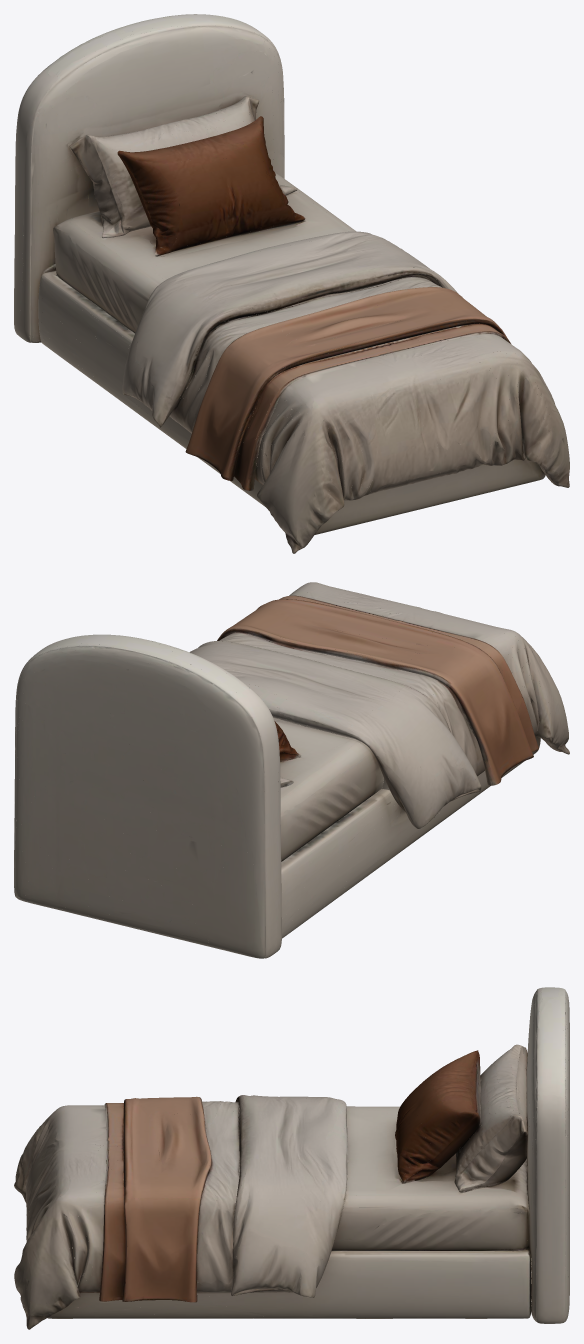
File: kids_bed.glb
The picture shows the model from 3 angles, top to bottom: view 1: azimuth 30°, elevation 25°; view 2: azimuth 150°, elevation 25°; view 3: azimuth 270°, elevation 25°; orthographic projection. The views are drawn at different scales.
Parts seen in each view (by area): view 1: node_0; view 2: node_0; view 3: node_0.
Boxes of the visible parts, x1,y1,x2,y2 form: node_0: (14, 14, 569, 553); node_0: (14, 582, 569, 958); node_0: (14, 987, 569, 1329).
Size of the model in its own units: 0.6282 by 0.516 by 0.9964.
Materials: 1 (1 with a texture image).
